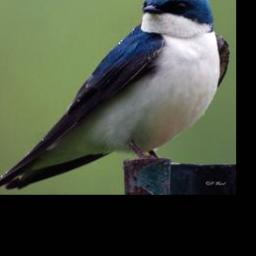Swallow: (0, 0, 230, 193)
